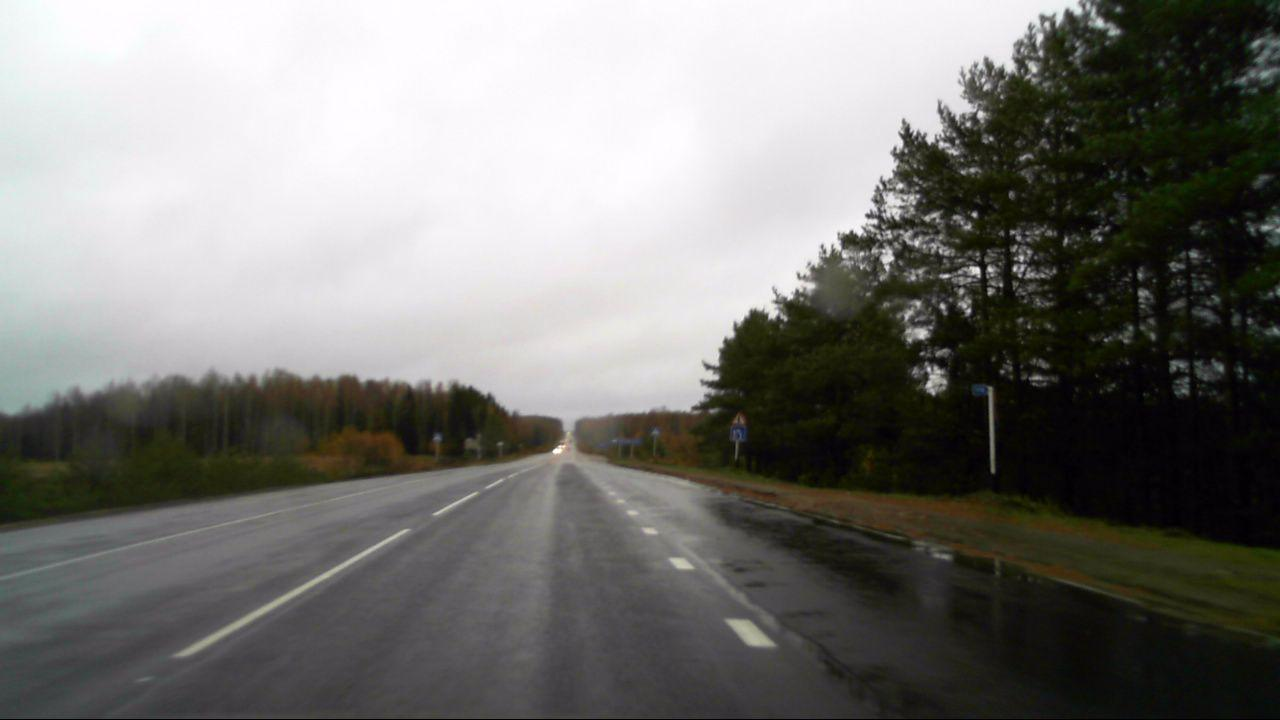2_3_3: (728, 409, 749, 428)
5_15_5: (729, 427, 747, 441)
